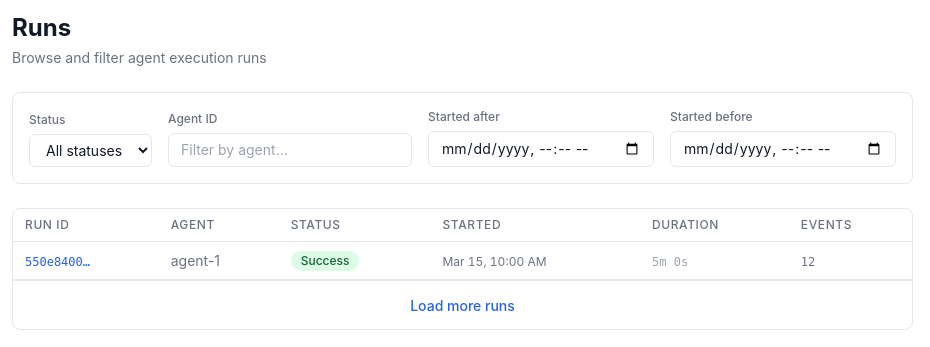
Test: RunsPage › fetches next page when "Load more" is clicked
The image size is (930, 347).
Step 1. Click the button "Load more runs" → (462, 306), box [410,296,515,316]
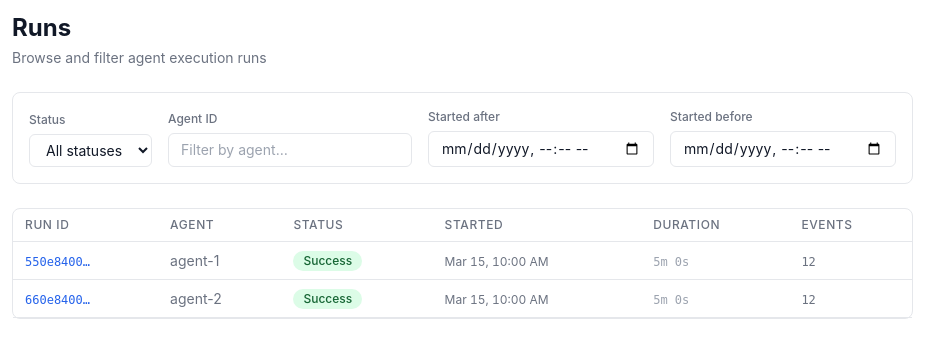
Expected: the link "550e8400…" is shown, [25,254,90,268]
Result: the link "660e8400…" is shown at [25,292,90,306]
